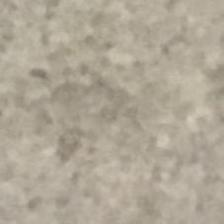Non_Crack: (35, 23, 188, 193)
